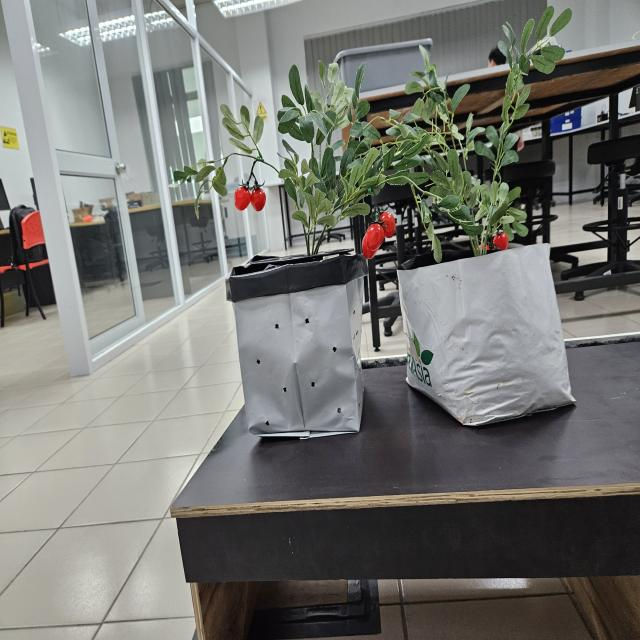Soilbag: (398, 241, 575, 428), (230, 256, 363, 439)
Tomato: (359, 204, 399, 262), (233, 171, 267, 214), (492, 230, 508, 249)
plant: (167, 58, 461, 259), (379, 5, 573, 253)
